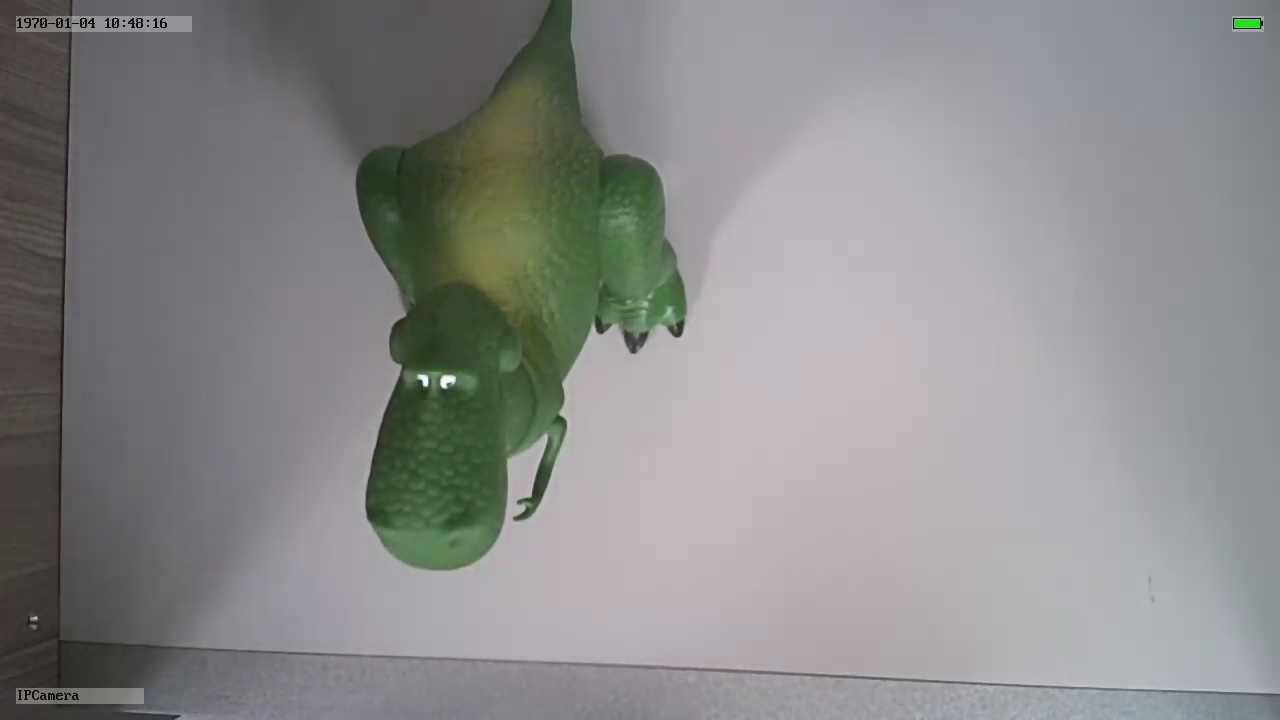rex: (355, 53, 690, 574)
